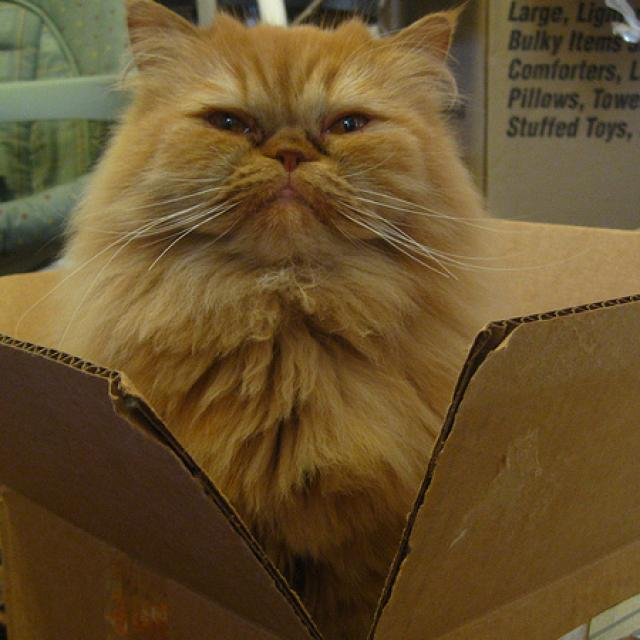Persian: (48, 0, 515, 640)
